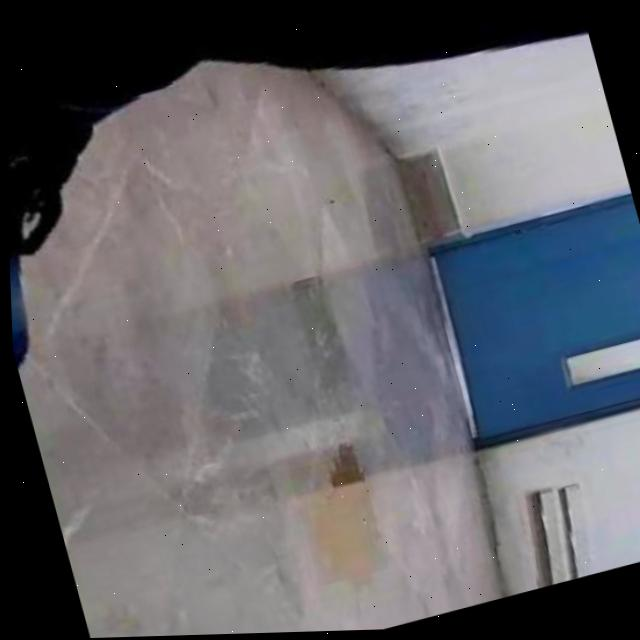spillage: (294, 458, 371, 587)
